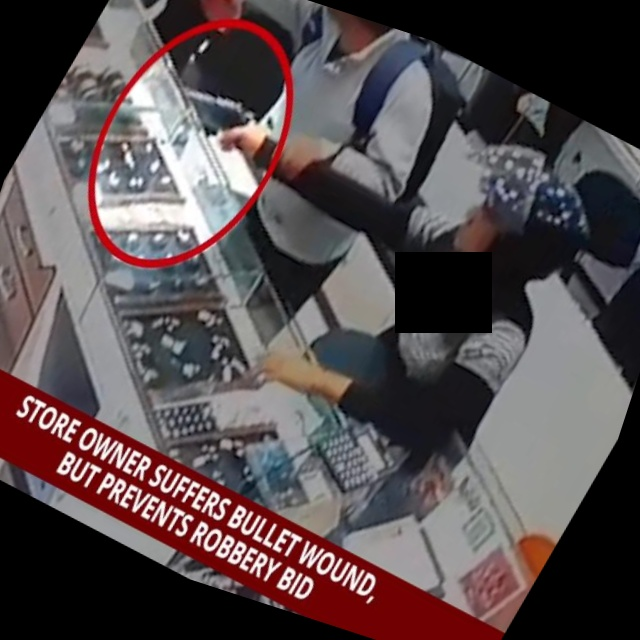gun: (165, 72, 265, 156)
